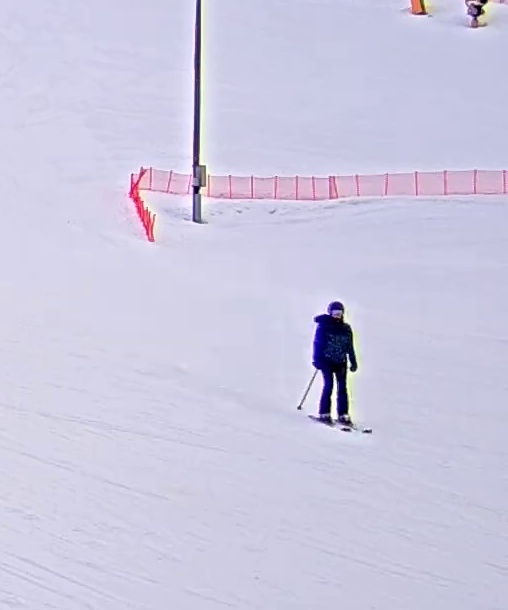skier: (296, 299, 374, 435)
